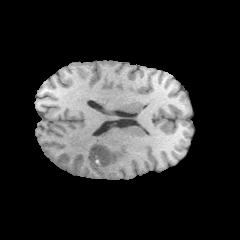glioma: (54, 131, 131, 177)
